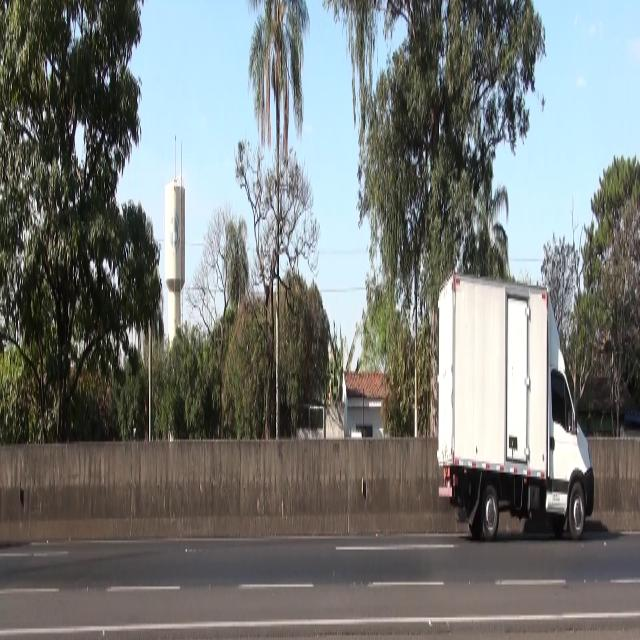-axle: (566, 478, 588, 542), (481, 482, 501, 544)
